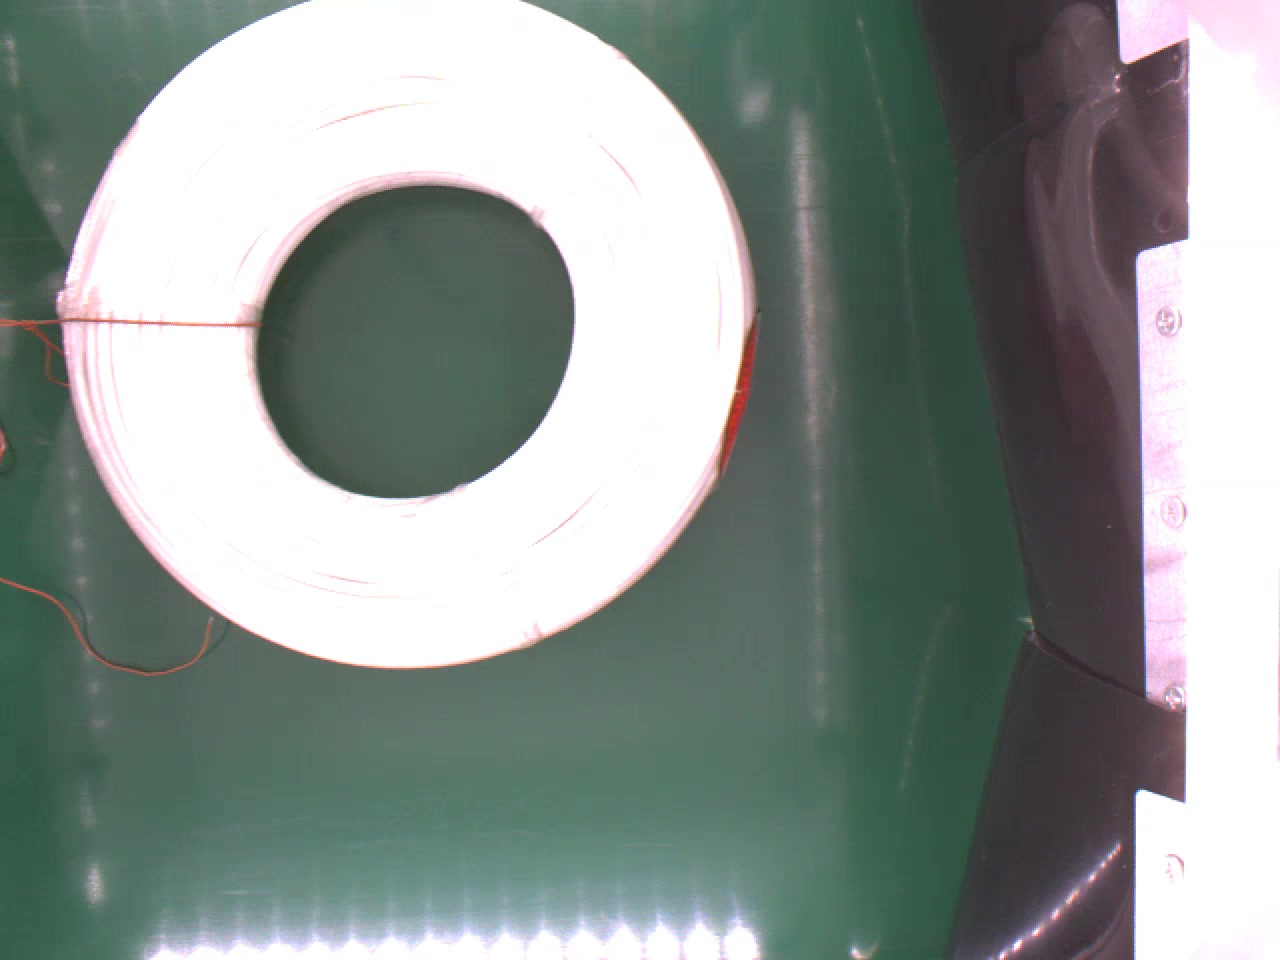white: (60, 0, 752, 676)
